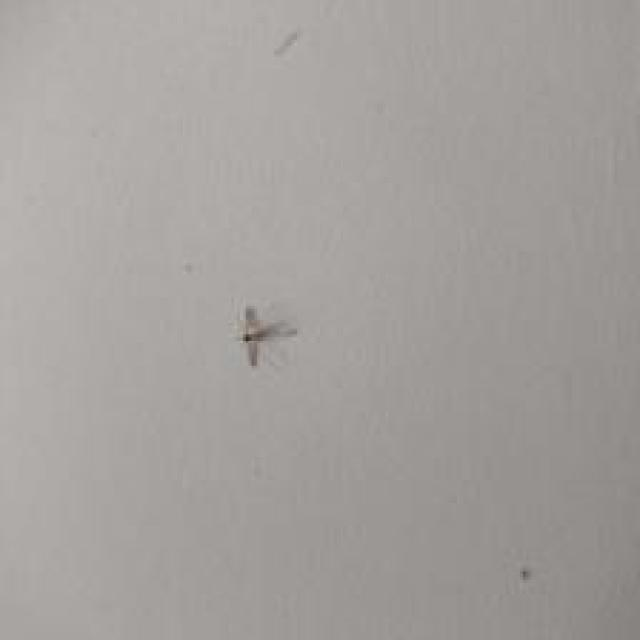Culex: (236, 304, 298, 367)
